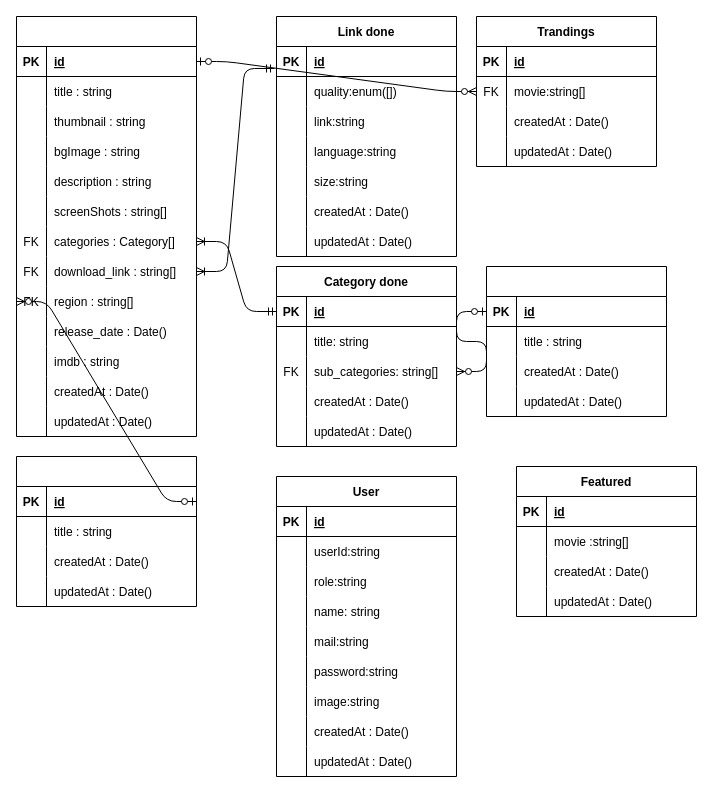
This 713x793 diagram has some shape labels left out. The box of each missing label's shape, as (x1, y1, x2, y2) in pixels:
Movies done: (16, 16, 196, 436)
Region done: (16, 456, 196, 606)
SubCategory done: (486, 266, 666, 416)
